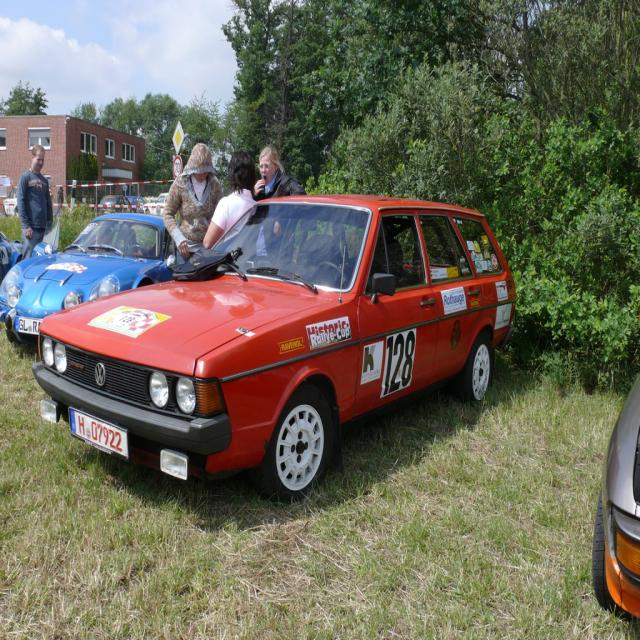car: (28, 184, 515, 504)
